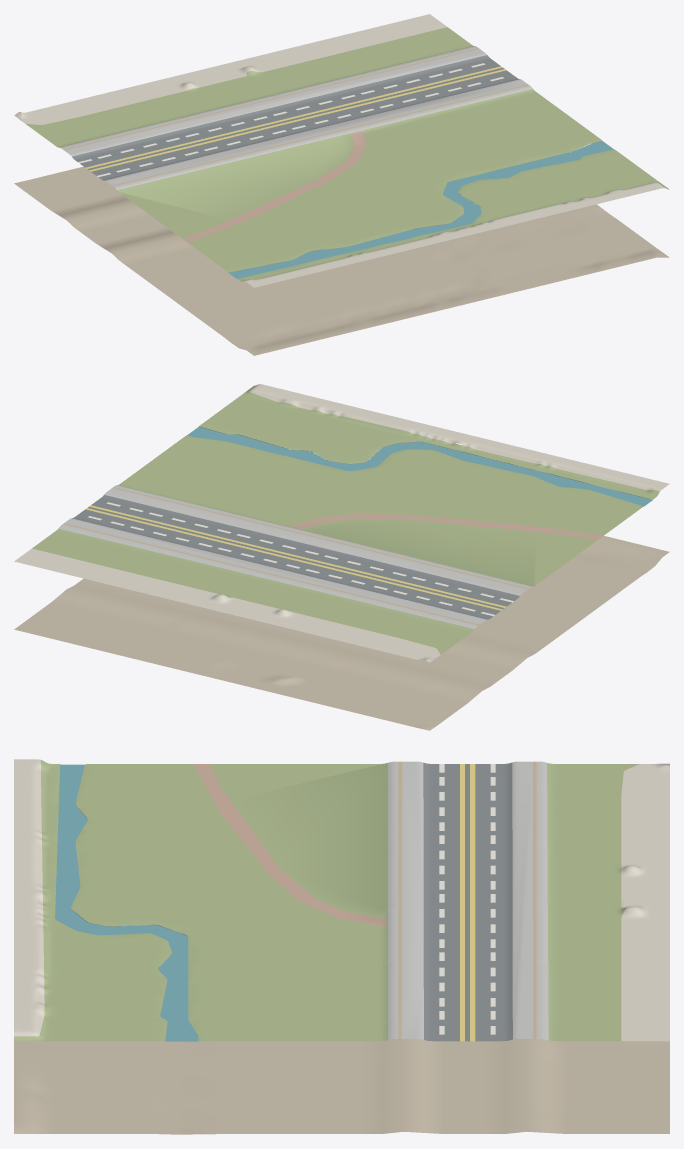
3 renders of one model, top to bottom at view 1: azimuth 30°, elevation 25°; view 2: azimuth 150°, elevation 25°; view 3: azimuth 270°, elevation 25°, orthographic. The views are drawn at different scales.
Parts seen in each view (by area): view 1: s_0_1__grass, s_0_1__soil, s_0_1__asphalt, s_0_1__paving, s_0_1__stone_paving, s_0_1__water, s_0_1__yellow_marking, s_0_1__brick_paving, s_0_1__timber_deck, s_0_1__white_marking; view 2: s_0_1__grass, s_0_1__soil, s_0_1__paving, s_0_1__asphalt, s_0_1__stone_paving, s_0_1__water, s_0_1__yellow_marking, s_0_1__brick_paving, s_0_1__timber_deck, s_0_1__white_marking; view 3: s_0_1__grass, s_0_1__soil, s_0_1__paving, s_0_1__asphalt, s_0_1__stone_paving, s_0_1__water, s_0_1__brick_paving, s_0_1__yellow_marking, s_0_1__timber_deck, s_0_1__white_marking.
Part boxes in pixels (x1,y1,x2,y2): s_0_1__grass: (25,27,669,281); s_0_1__soil: (14,166,669,355); s_0_1__asphalt: (72,55,519,180); s_0_1__paving: (21,14,665,287); s_0_1__stone_paving: (14,46,532,189); s_0_1__water: (228,141,613,278); s_0_1__yellow_marking: (85,66,506,171); s_0_1__brick_paving: (18,112,365,242); s_0_1__timber_deck: (63,48,528,186); s_0_1__white_marking: (78,63,503,177); s_0_1__grass: (32,385,659,654); s_0_1__soil: (14,436,669,730); s_0_1__paving: (14,384,669,660); s_0_1__asphalt: (72,495,519,619); s_0_1__stone_paving: (58,485,532,662); s_0_1__water: (187,427,652,506); s_0_1__yellow_marking: (85,505,506,610); s_0_1__brick_paving: (291,513,603,659); s_0_1__timber_deck: (63,487,528,625); s_0_1__white_marking: (88,502,513,616); s_0_1__grass: (14,760,639,1041); s_0_1__soil: (14,892,669,1134); s_0_1__paving: (14,759,669,1041); s_0_1__asphalt: (423,762,512,1041); s_0_1__stone_paving: (388,761,669,1040); s_0_1__water: (55,764,198,1041); s_0_1__brick_paving: (194,764,669,926); s_0_1__yellow_marking: (460,764,475,1041); s_0_1__timber_deck: (398,761,536,1038); s_0_1__white_marking: (439,764,495,1034).
Bounding box in the file's own units: 128 × 21.14 × 128.
